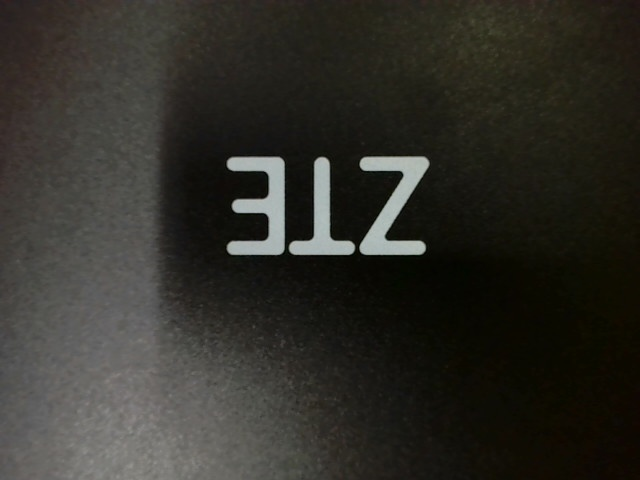AN_ZTE: (217, 139, 437, 266)
